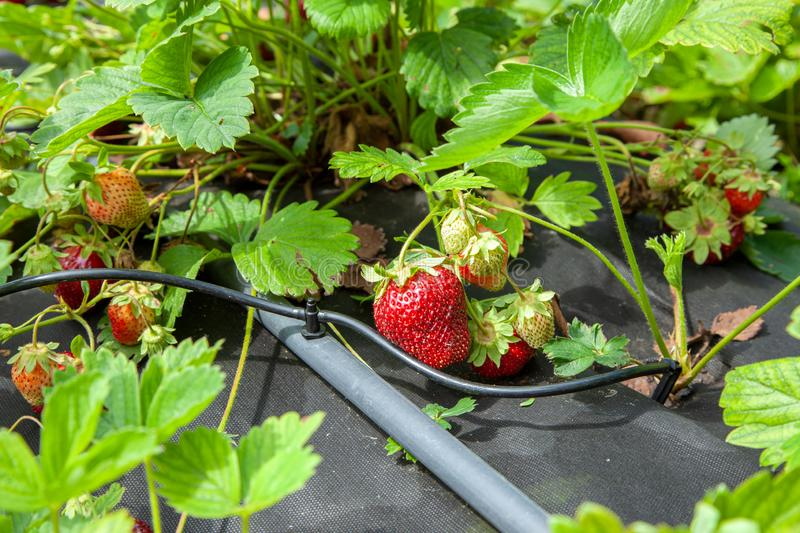ripe: (370, 257, 472, 377), (464, 311, 530, 383), (53, 237, 121, 306), (717, 164, 767, 215), (696, 214, 744, 265)
unripe: (79, 161, 150, 233), (10, 339, 70, 408), (107, 281, 161, 357), (477, 214, 514, 300), (514, 288, 563, 351), (436, 197, 474, 262), (646, 145, 688, 194), (465, 235, 509, 281)
